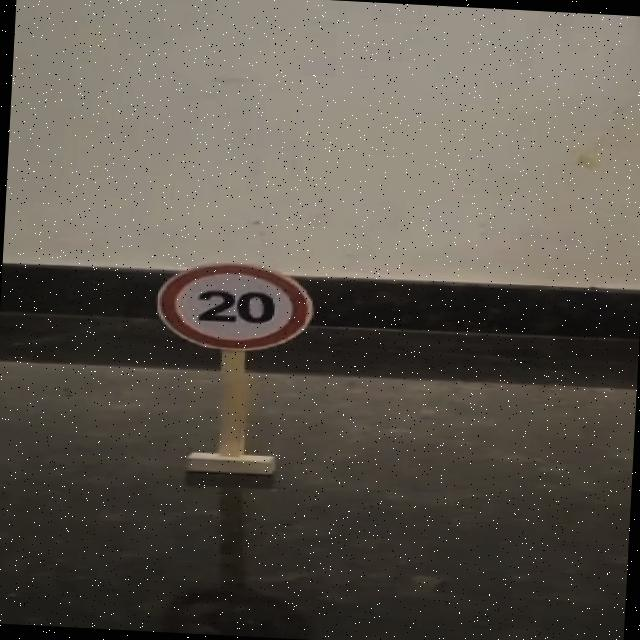Speed20: (137, 252, 330, 361)
